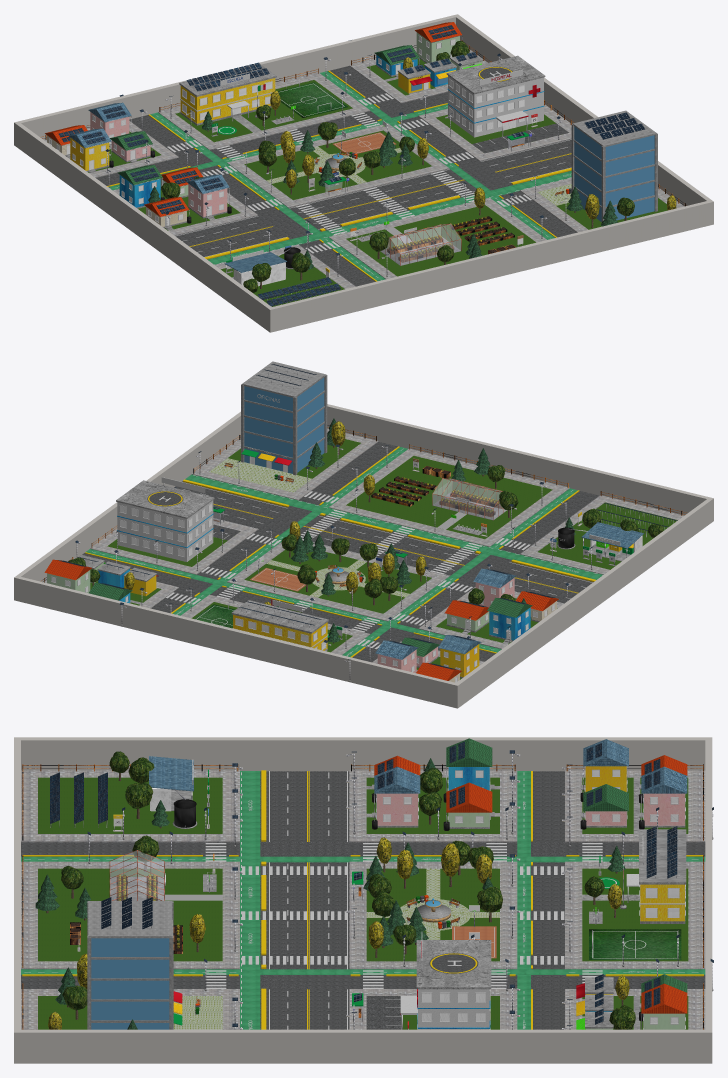
Rendered from ciudad_sus_botes_moviles.fbx.
3 renders of one model, top to bottom at view 1: azimuth 30°, elevation 25°; view 2: azimuth 150°, elevation 25°; view 3: azimuth 270°, elevation 25°, orthographic. The views are drawn at different scales.
Parts seen in each view (by area): view 1: Calles_y_Cuadras, Limite_Sur, Oficinas, Limite_Oeste, Limite_Norte, Hospital, Escuela, Limite_Este, Invernadero, Escuela_Exterior, Casa_02, Parque_Plaza (+15 smaller); view 2: Calles_y_Cuadras, Limite_Norte, Limite_Sur, Oficinas, Limite_Oeste, Hospital, Limite_Este, Escuela, Invernadero, Parque_Plaza, Oficinas_Plaza, Casa_03 (+15 smaller); view 3: Calles_y_Cuadras, Limite_Este, Limite_Oeste, Oficinas, Hospital, Escuela, Escuela_Exterior, Casa_02, Casa_08, Parque_Plaza, Invernadero, Limite_Norte (+27 smaller).
Part boxes in pixels (x1,y1,x2,y2): Calles_y_Cuadras: (44,49,683,306); Limite_Sur: (268,201,713,331); Oficinas: (571,110,657,222); Limite_Oeste: (14,123,274,332); Limite_Norte: (14,14,459,146); Hospital: (446,55,545,137); Escuela: (179,62,276,125); Limite_Este: (456,16,713,224); Invernadero: (380,223,461,265); Escuela_Exterior: (218,79,347,134); Casa_02: (186,174,231,218); Parque_Plaza: (266,120,401,184); Calles_y_Cuadras: (44,428,683,679); Limite_Norte: (14,576,460,708); Limite_Sur: (327,404,713,515); Oficinas: (241,361,327,475); Limite_Oeste: (453,497,713,707); Hospital: (116,480,214,561); Limite_Este: (14,411,240,600); Escuela: (231,600,328,650); Invernadero: (432,478,507,520); Parque_Plaza: (250,556,409,597); Oficinas_Plaza: (209,458,311,492); Casa_03: (487,597,532,642); Calles_y_Cuadras: (21,770,705,1029); Limite_Este: (14,1029,712,1063); Limite_Oeste: (14,737,705,771); Oficinas: (87,897,182,1029); Hospital: (400,940,491,1029); Escuela: (626,826,686,923); Escuela_Exterior: (582,864,681,959); Casa_02: (372,766,420,829); Casa_08: (639,766,687,829); Parque_Plaza: (366,868,499,958); Invernadero: (109,850,165,900); Limite_Norte: (705,737,712,1063).
Size of the model in its own units: 10200 by 1846 by 10225.
Materials: 66 (52 with a texture image).
